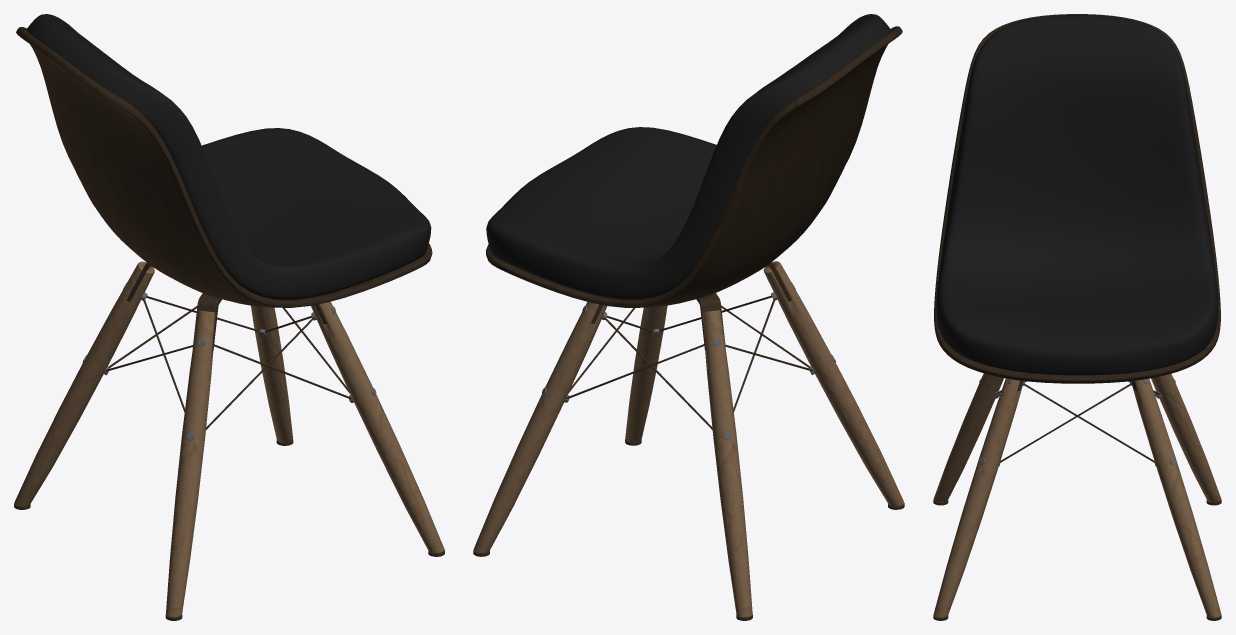
File: chair03.glb
3 views of the same model, side by side, from view 1: azimuth 30°, elevation 25°; view 2: azimuth 150°, elevation 25°; view 3: azimuth 270°, elevation 25° (orthographic). The views are drawn at different scales.
Parts seen in each view (by area): view 1: chair03; view 2: chair03; view 3: chair03.
Boxes of the visible parts, x1,y1,x2,y2 form: chair03: [14, 14, 444, 620]; chair03: [473, 14, 904, 620]; chair03: [933, 14, 1221, 620].
Size of the model in its own units: 0.4774 by 0.6982 by 0.3842.
Materials: 5 (3 with a texture image).
